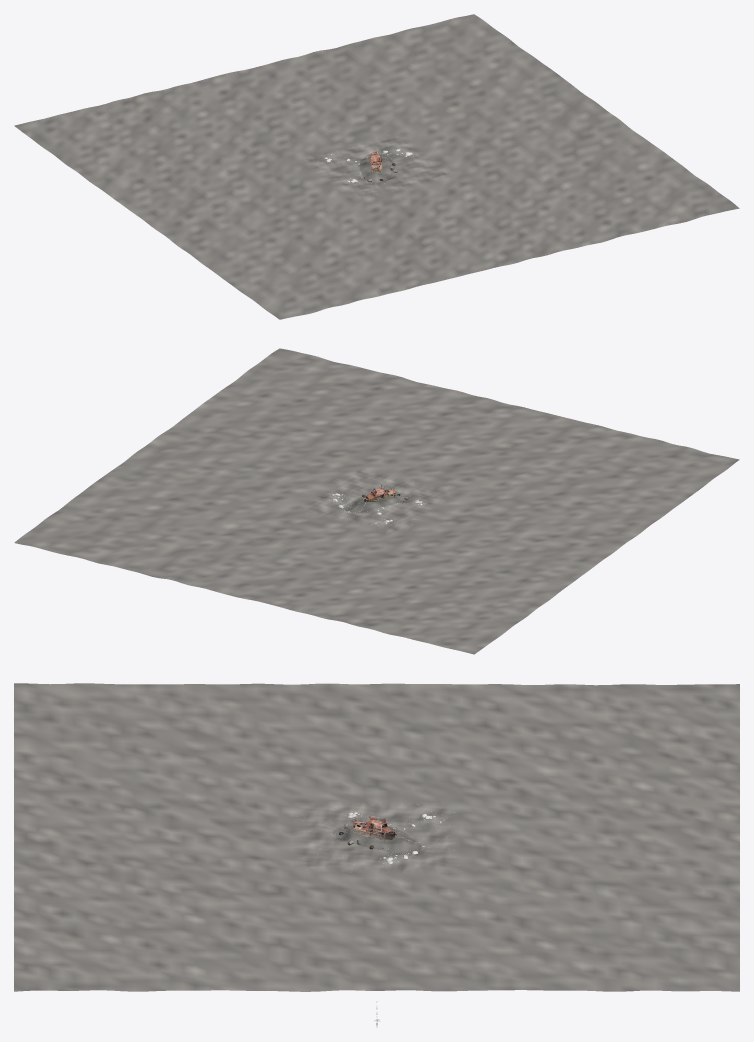
File: wreck_site.glb
The picture shows the model from 3 angles, top to bottom: view 1: azimuth 30°, elevation 25°; view 2: azimuth 150°, elevation 25°; view 3: azimuth 270°, elevation 25°; orthographic projection. The views are drawn at different scales.
Visible parts, largest first — view 1: Seabed; view 2: Seabed; view 3: Seabed, WreckHull.
Part boxes in pixels (<box>): Seabed: <box>14,14,739,319</box>; Seabed: <box>14,348,739,654</box>; Seabed: <box>14,683,739,991</box>; WreckHull: <box>351,816,398,849</box>.
Size of the model in its own units: 120 by 33.83 by 120.
Materials: 21 (1 with a texture image).
